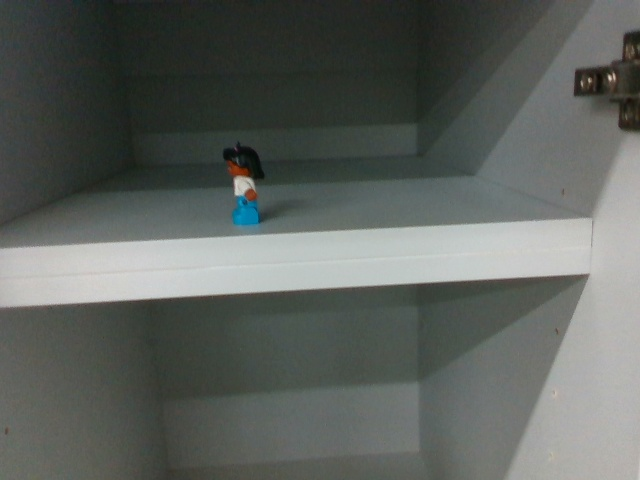people: (219, 136, 267, 229)
